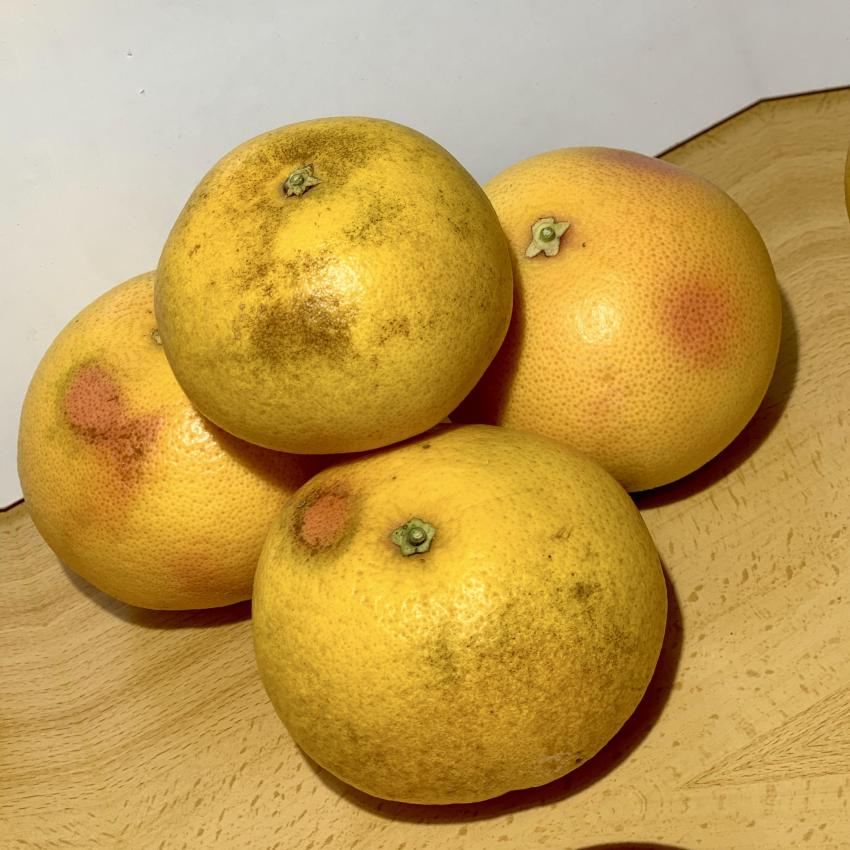Mal estado: (223, 437, 683, 810), (446, 124, 826, 516), (144, 110, 526, 445), (13, 260, 329, 634)
